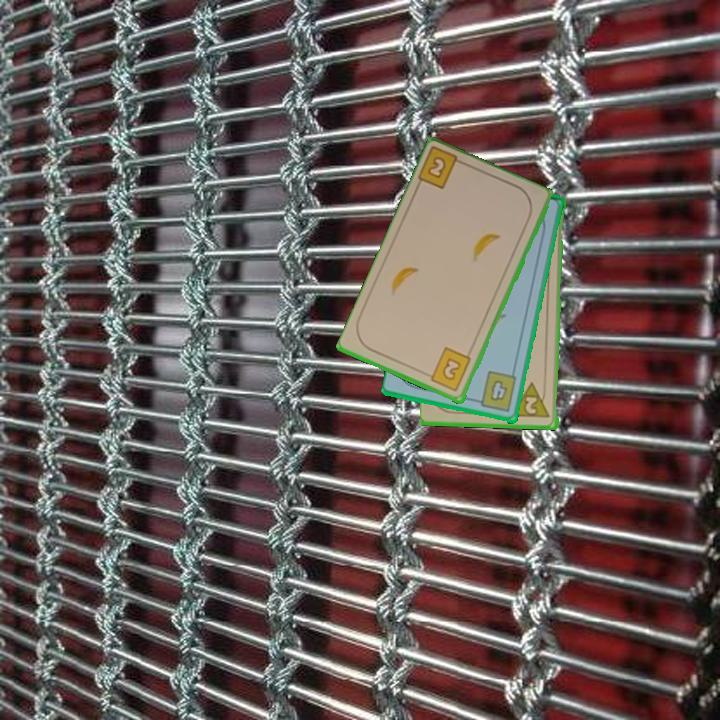2b: (422, 344, 474, 395), (415, 145, 470, 193)
2p: (510, 380, 553, 421)
4b: (471, 368, 520, 415)
